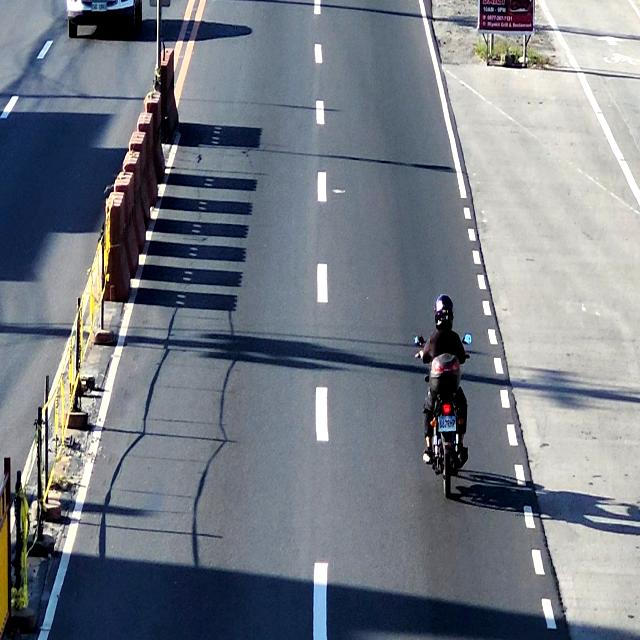License-Plate: (438, 413, 458, 434)
Motorcycle: (420, 302, 470, 496)
